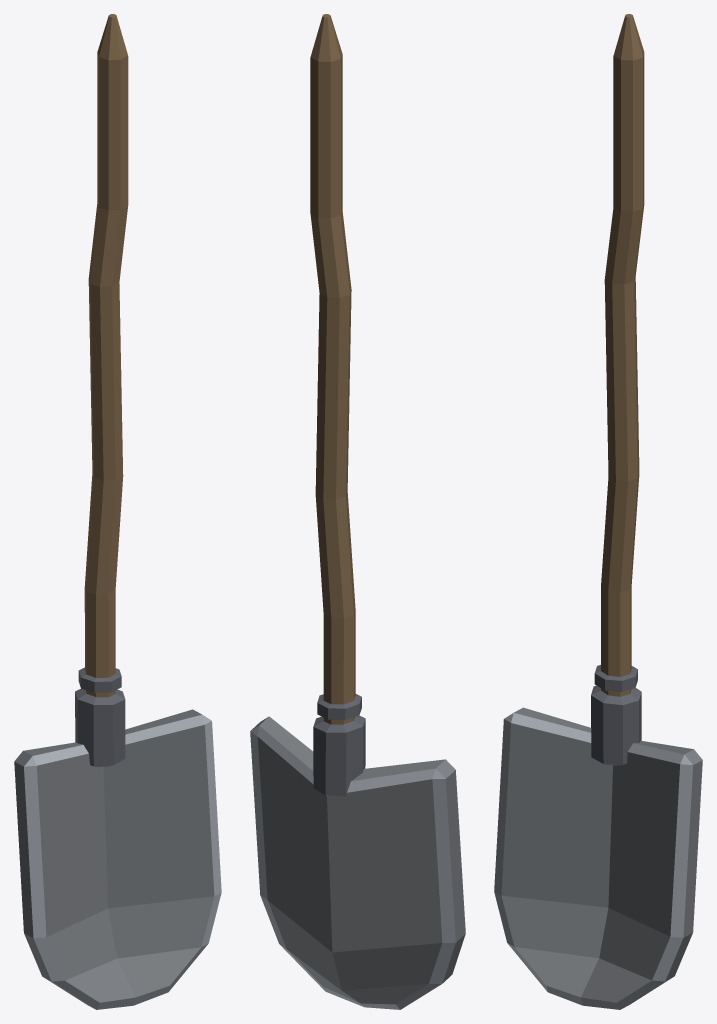
The model's file is WF_LP_HT_Props_Shovel.fbx.
3 renders of one model, left to right at view 1: azimuth 30°, elevation 25°; view 2: azimuth 150°, elevation 25°; view 3: azimuth 330°, elevation 25°, orthographic. The views are drawn at different scales.
Visible parts, largest first — view 1: WF_LP_HT_Props_Shovel; view 2: WF_LP_HT_Props_Shovel; view 3: WF_LP_HT_Props_Shovel.
Part boxes in pixels (x1=…): WF_LP_HT_Props_Shovel: x1=14, y1=14, x2=221, y2=1009; WF_LP_HT_Props_Shovel: x1=250, y1=14, x2=465, y2=1009; WF_LP_HT_Props_Shovel: x1=494, y1=14, x2=702, y2=1009.
Bounding box in the file's own units: 0.2952 × 1.45 × 0.1315.
